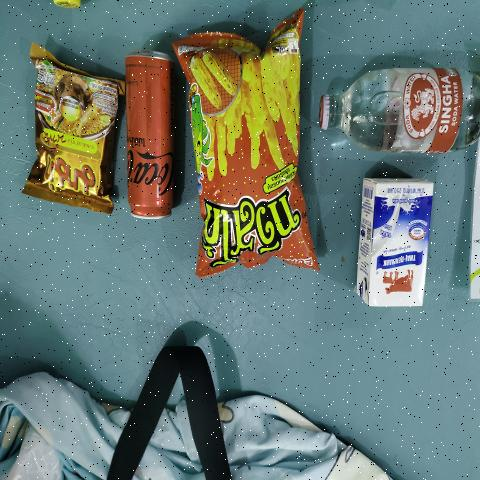coke_red: (120, 31, 173, 219)
mama: (34, 60, 115, 209)
singha_soda: (317, 63, 475, 156)
thai_denmark: (362, 180, 423, 310)
twisco: (194, 38, 310, 262)
